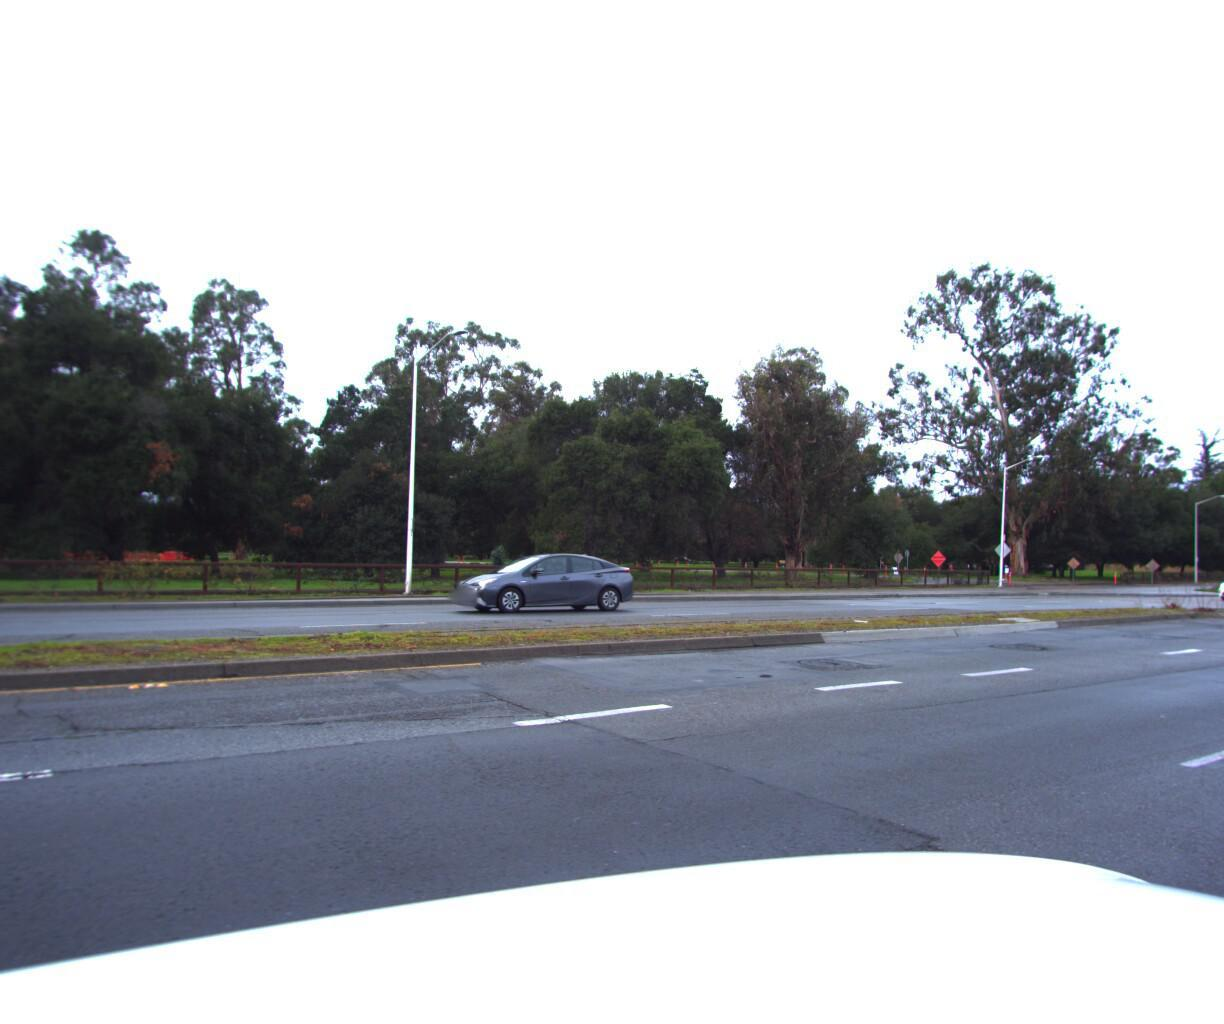car: (448, 545, 645, 617), (1207, 568, 1224, 604)
